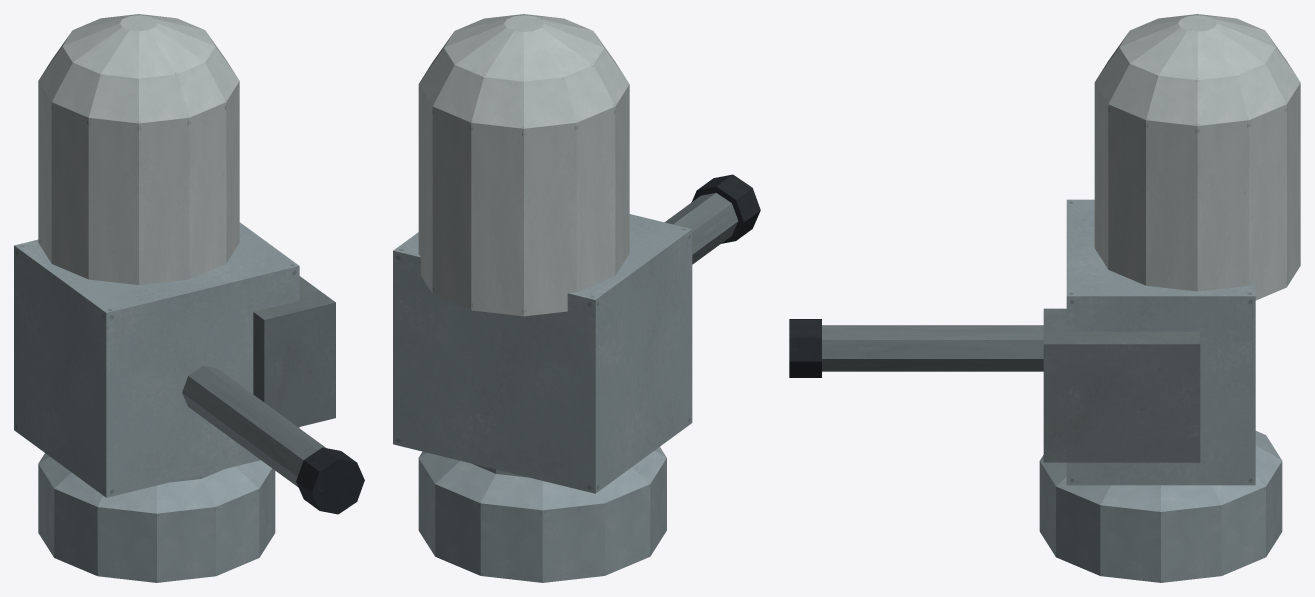
Rendered from mount_spruance_phalanx_metric.glb.
3 renders of one model, left to right at view 1: azimuth 30°, elevation 25°; view 2: azimuth 150°, elevation 25°; view 3: azimuth 270°, elevation 25°, orthographic. The views are drawn at different scales.
Parts seen in each view (by area): view 1: MESH_SPRUANCE_TEMPLATE_phalanx.002; view 2: MESH_SPRUANCE_TEMPLATE_phalanx.002; view 3: MESH_SPRUANCE_TEMPLATE_phalanx.002.
Boxes of the visible parts, x1,y1,x2,y2 form: MESH_SPRUANCE_TEMPLATE_phalanx.002: [14, 14, 364, 582]; MESH_SPRUANCE_TEMPLATE_phalanx.002: [393, 14, 760, 582]; MESH_SPRUANCE_TEMPLATE_phalanx.002: [789, 14, 1300, 582].
Bounding box in the file's own units: 2.04 × 4.3 × 3.92.
1 material, 1 textured.
